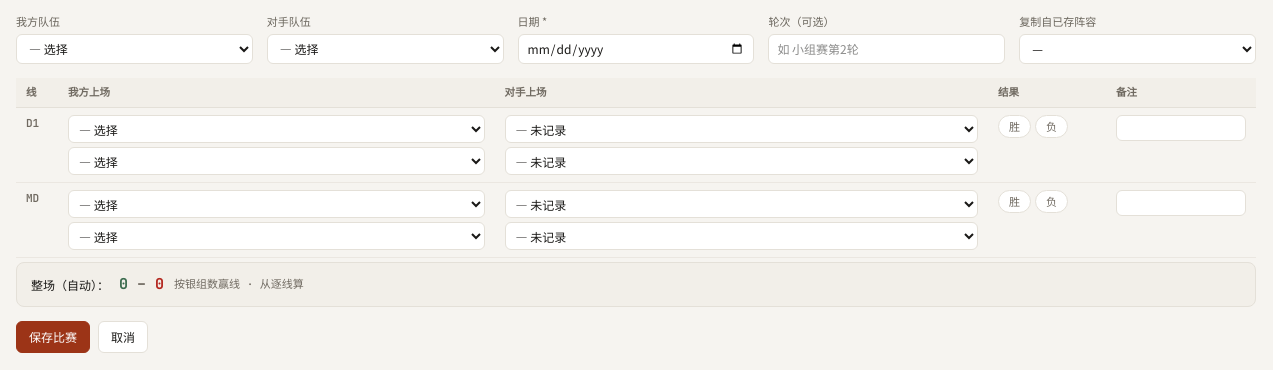
Test: MatchEntryForm › prefills our-side players from a saved lineup
Select "交大" in the dropdown labelled "我方队伍" at (134, 48), box [16,34,253,64]
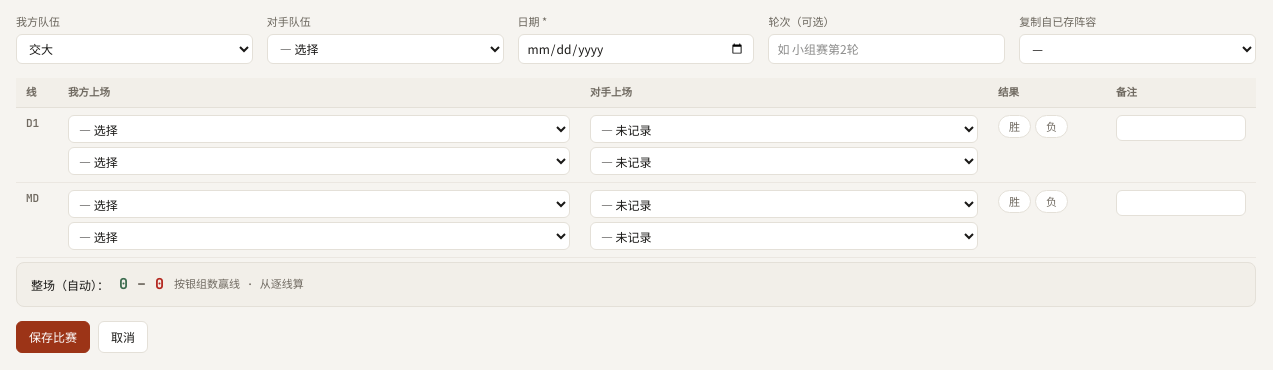
Select "主力" in the dropdown labelled "复制自已存阵容" at (1138, 48), box [1019,34,1256,64]
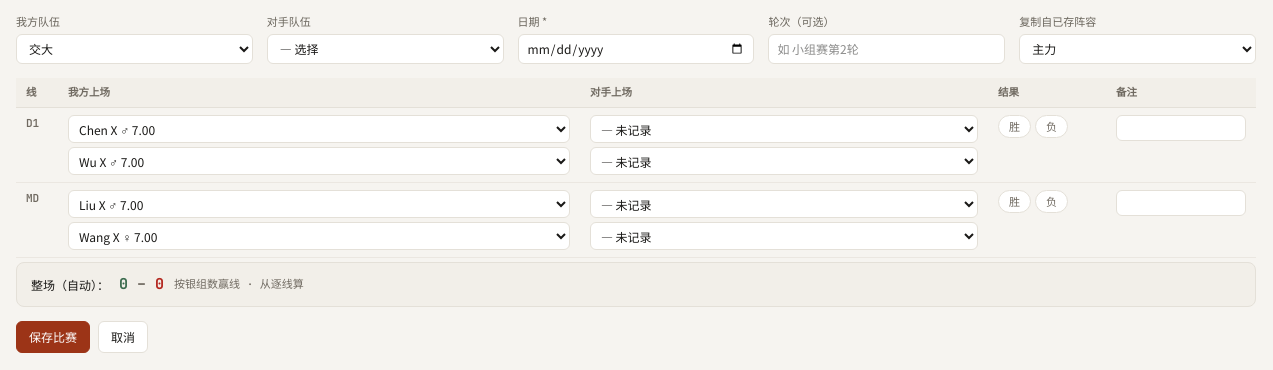
Result: the dropdown named "D1 我方球员1" shows "Chen X ♂ 7.00" at [68,115,570,143]
